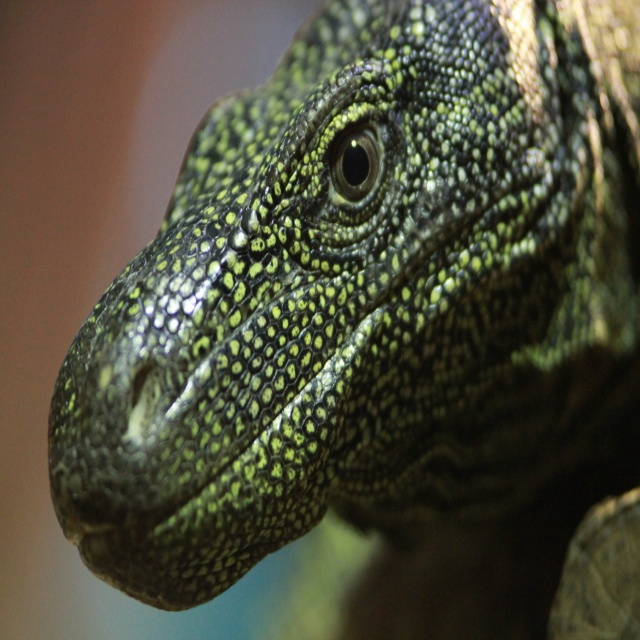Lizard: (49, 2, 639, 617)
